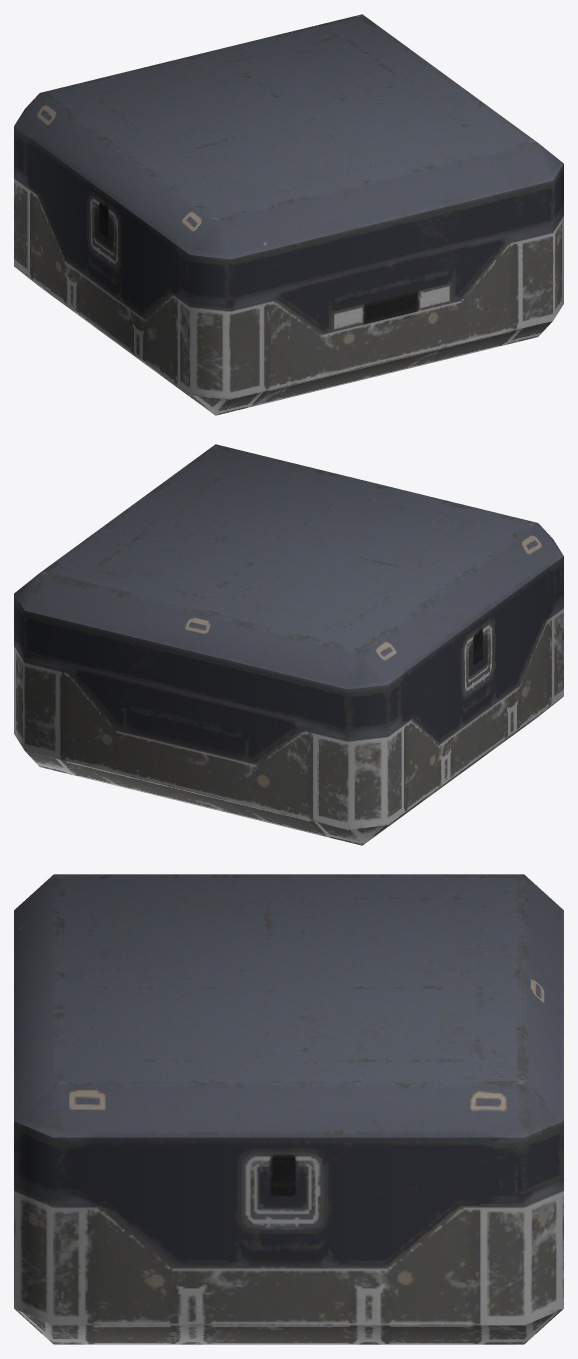
Rendered from SM_crate_cover_c.fbx.
The picture shows the model from 3 angles, top to bottom: view 1: azimuth 30°, elevation 25°; view 2: azimuth 150°, elevation 25°; view 3: azimuth 270°, elevation 25°; orthographic projection. The views are drawn at different scales.
Visible parts, largest first — view 1: crates_lp_Mesh1; view 2: crates_lp_Mesh1; view 3: crates_lp_Mesh1.
Part boxes in pixels (x1=…): crates_lp_Mesh1: x1=14, y1=14, x2=563, y2=415; crates_lp_Mesh1: x1=14, y1=444, x2=563, y2=845; crates_lp_Mesh1: x1=14, y1=874, x2=563, y2=1344.
Bounding box in the file's own units: 2.02 × 1 × 1.92.
